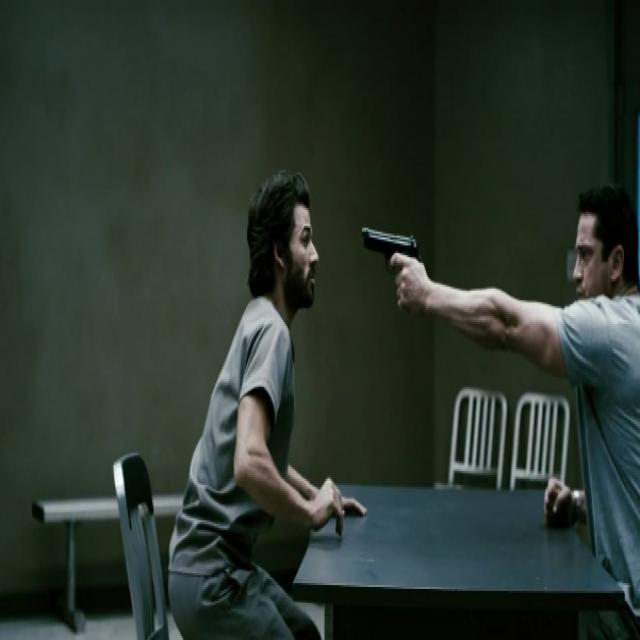weapons: (354, 200, 444, 314)
